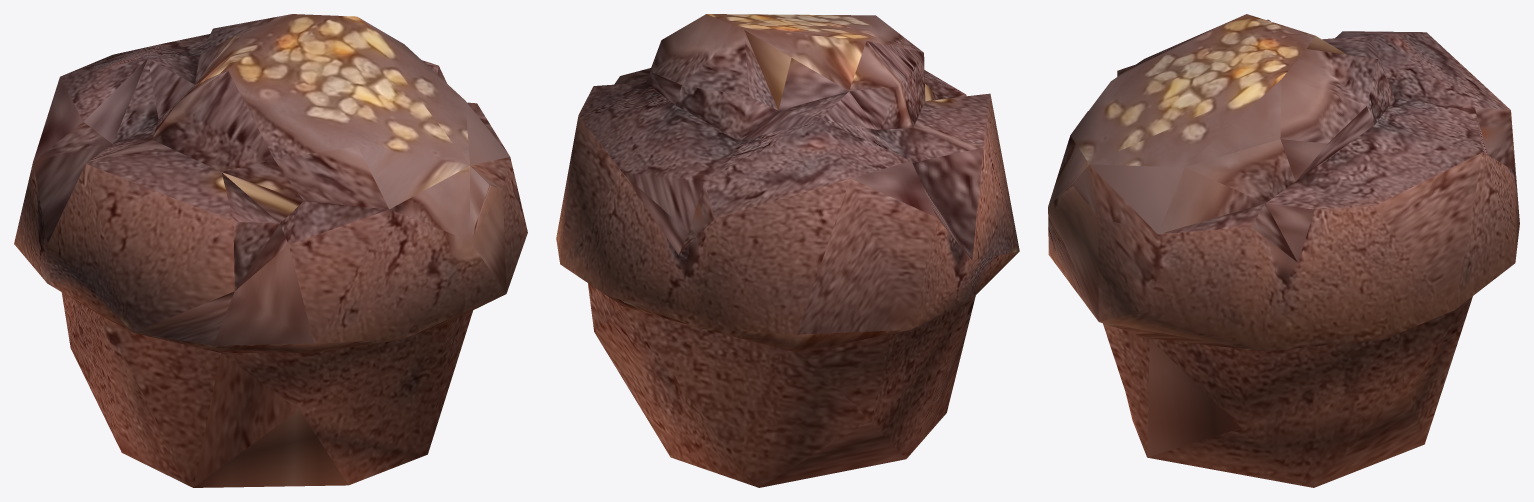
The model's file is muffin_162.obj.
3 renders of one model, left to right at view 1: azimuth 30°, elevation 25°; view 2: azimuth 150°, elevation 25°; view 3: azimuth 270°, elevation 25°, orthographic. The views are drawn at different scales.
Size of the model in its own units: 14.06 by 13.04 by 14.25.
1 material, 1 textured.
